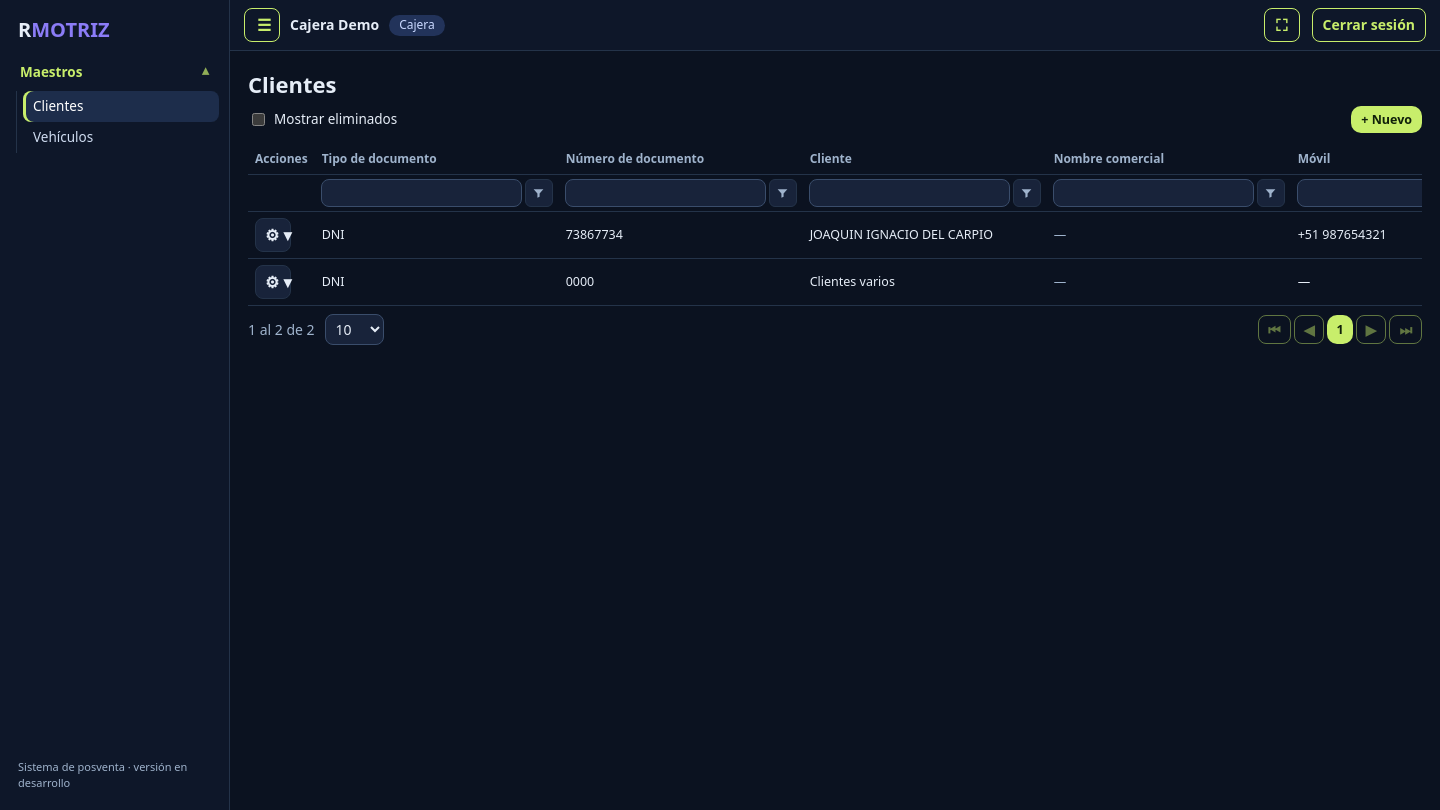
Test: Clientes: al elegir otro país cambia el prefijo del móvil
Click the button "+ Nuevo" at (1387, 120), box [1351, 106, 1422, 133]
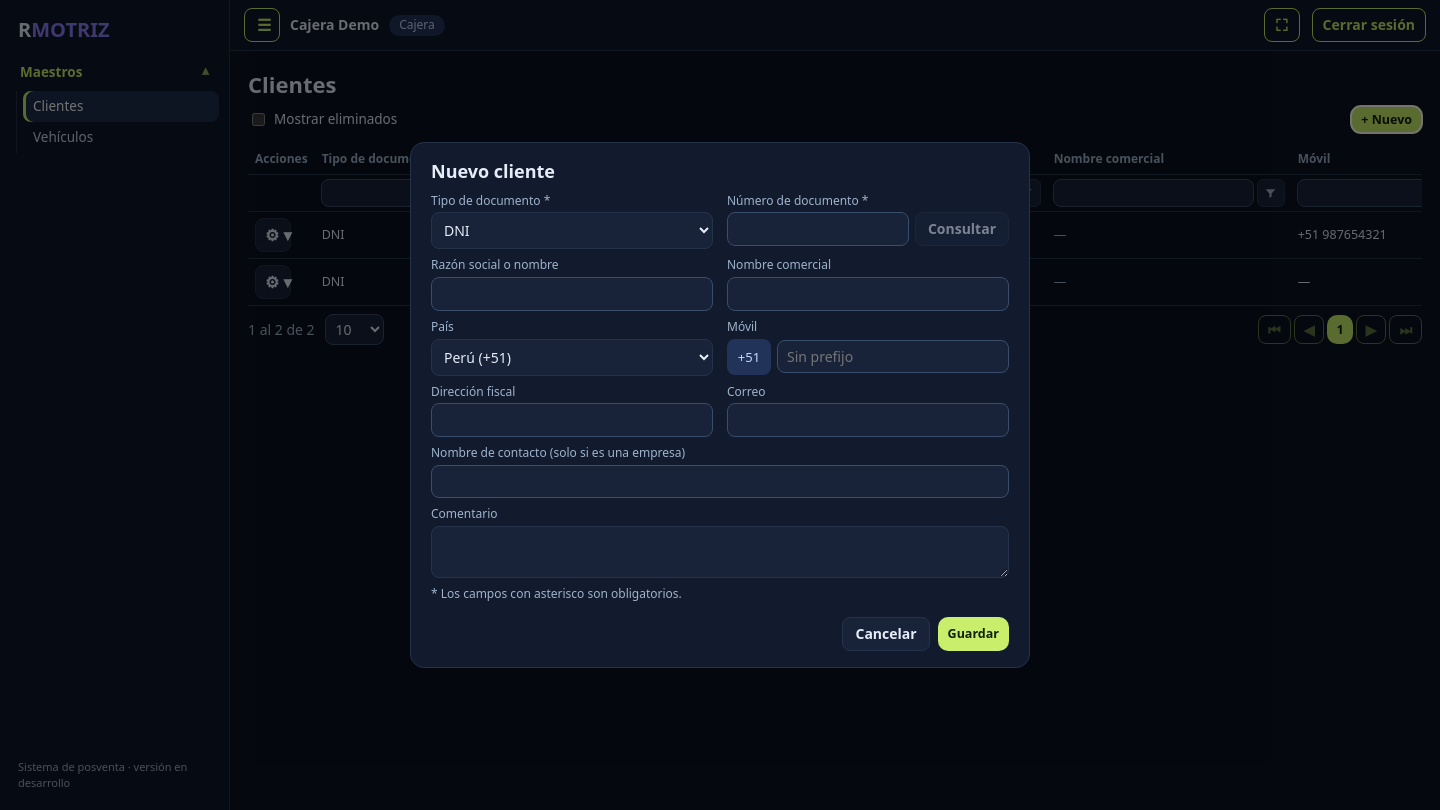
expect the text "+51" is shown: met, box [727, 339, 771, 375]
Select "Colombia (+57)" in the dropdown labelled "País" at (572, 357), box [431, 339, 713, 376]
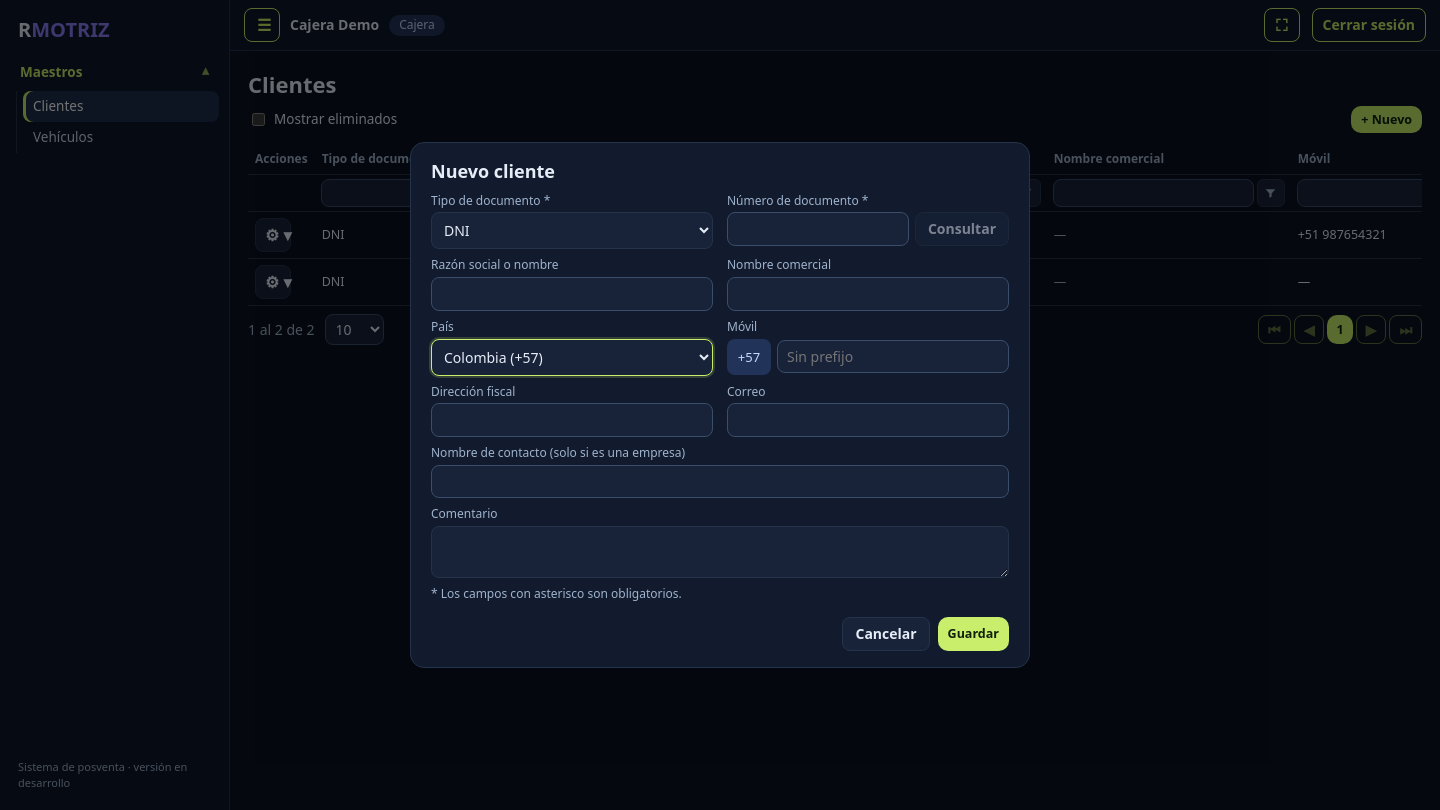
expect the text "+57" is shown: met, box [727, 339, 771, 375]
